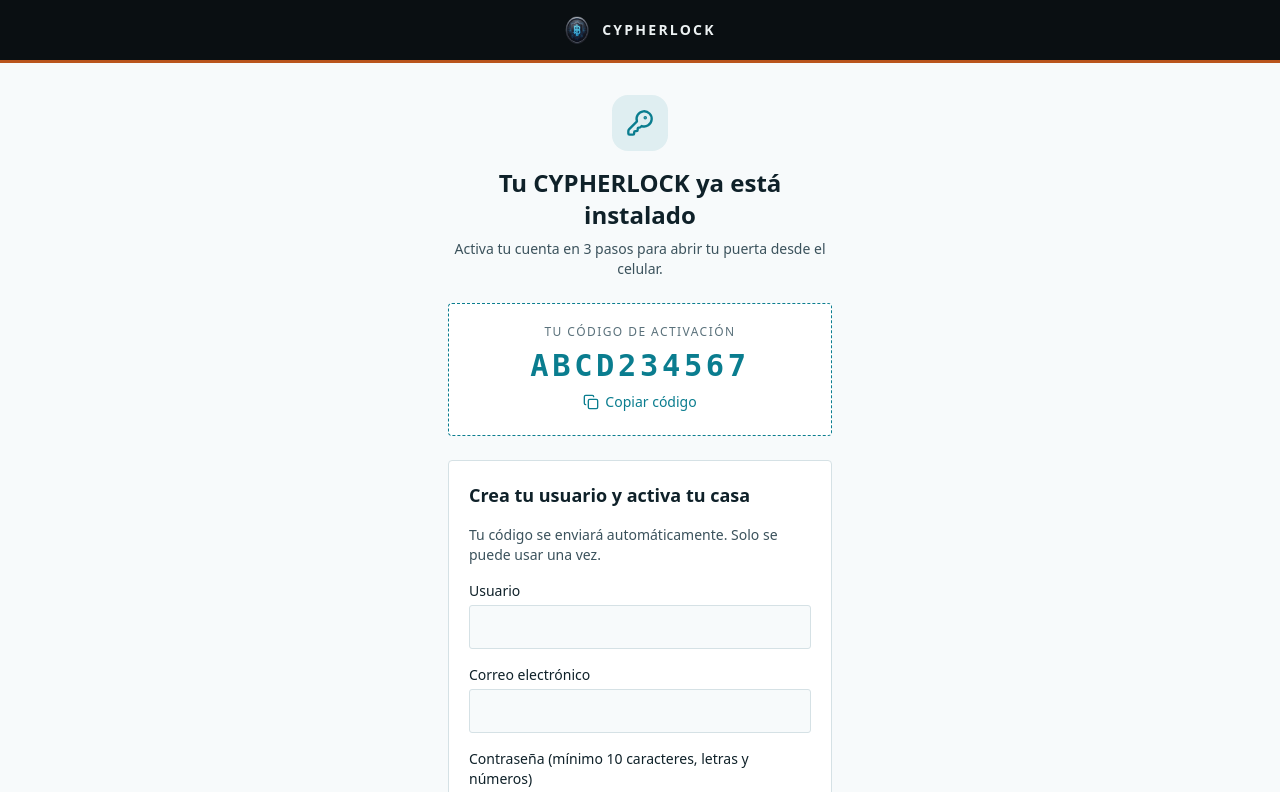
muestra el rechazo del backend y no anuncia activación si el código ya se usó
Type "prop_demo" into the field labelled "Usuario" at (640, 627), box 469,605 -> 811,649
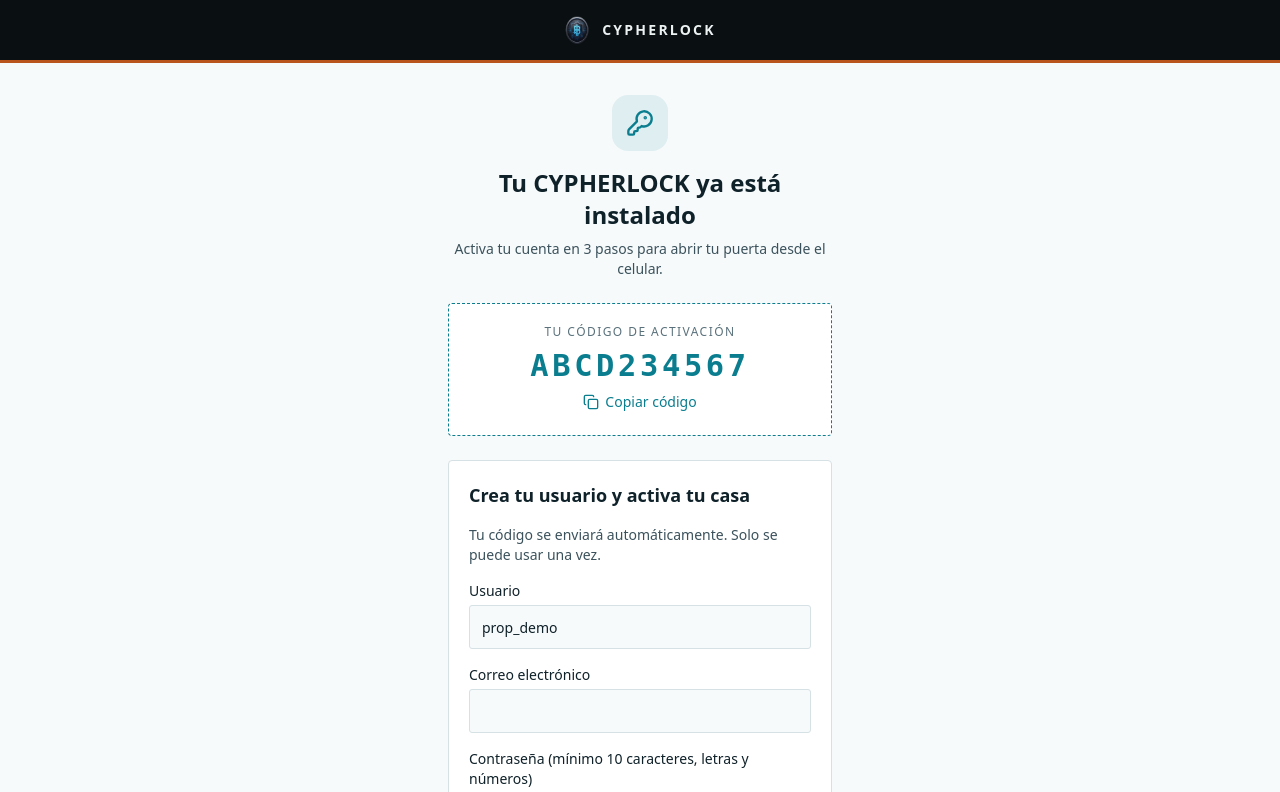
Type "demo@example.com" into the field labelled "Correo electrónico" at (640, 711), box 469,689 -> 811,733
(page scrolled)
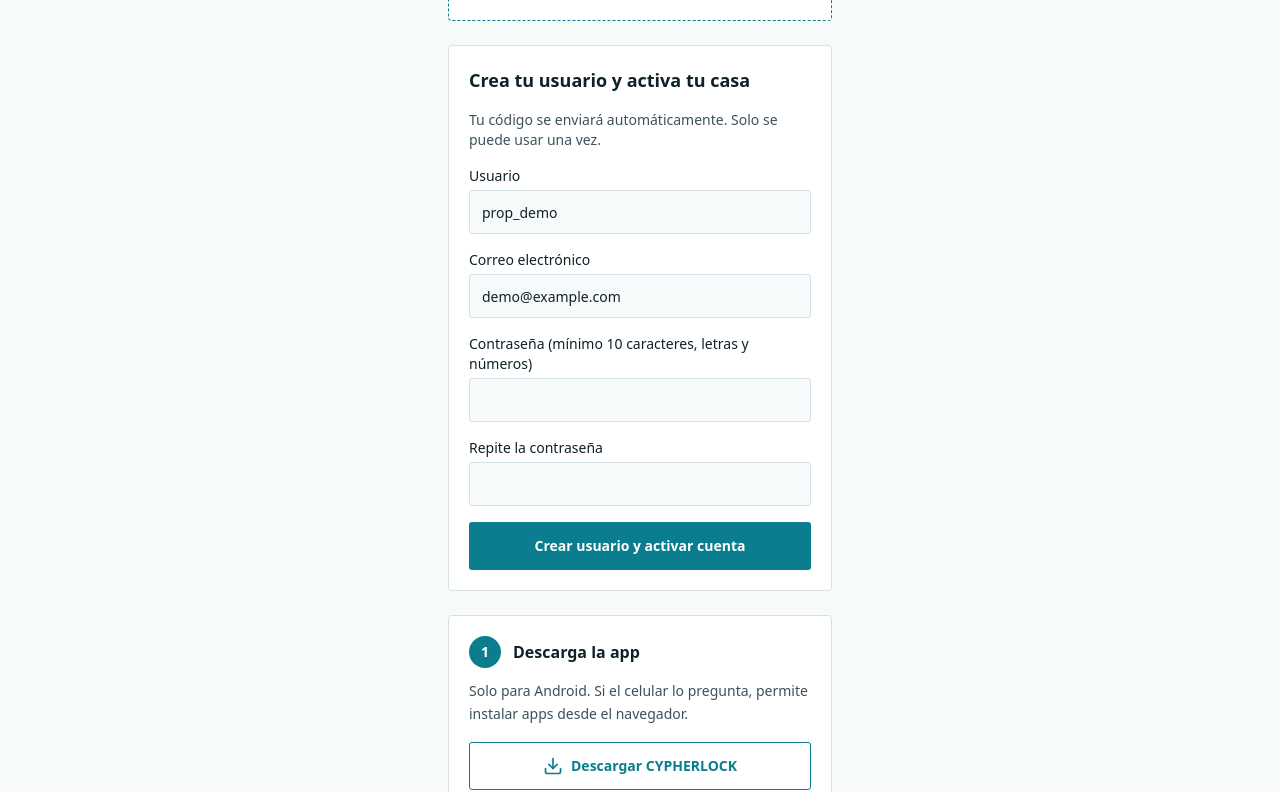
Type "Clave12345!" into the password field labelled "Contraseña (mínimo 10 caracteres, letras y números)" at (640, 400), box 469,378 -> 811,422
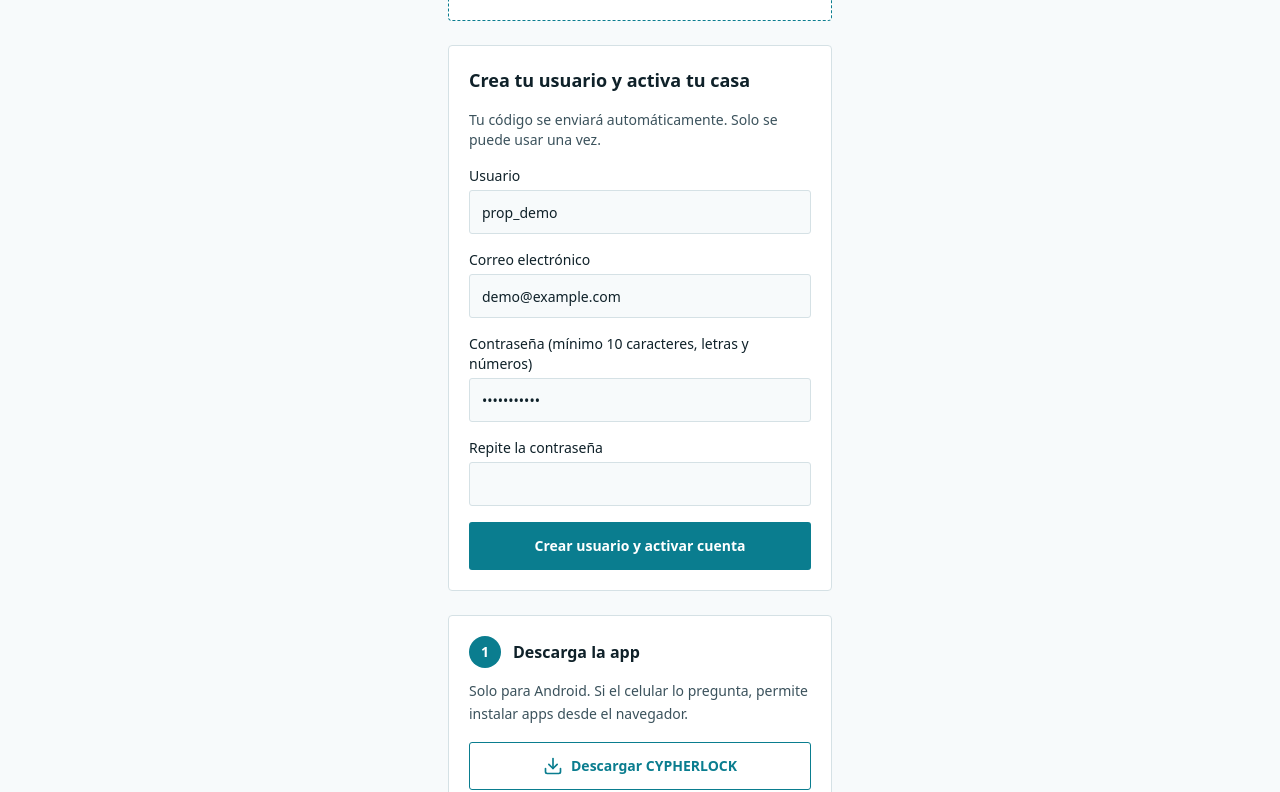
Type "Clave12345!" into the password field labelled "Repite la contraseña" at (640, 484), box 469,462 -> 811,506
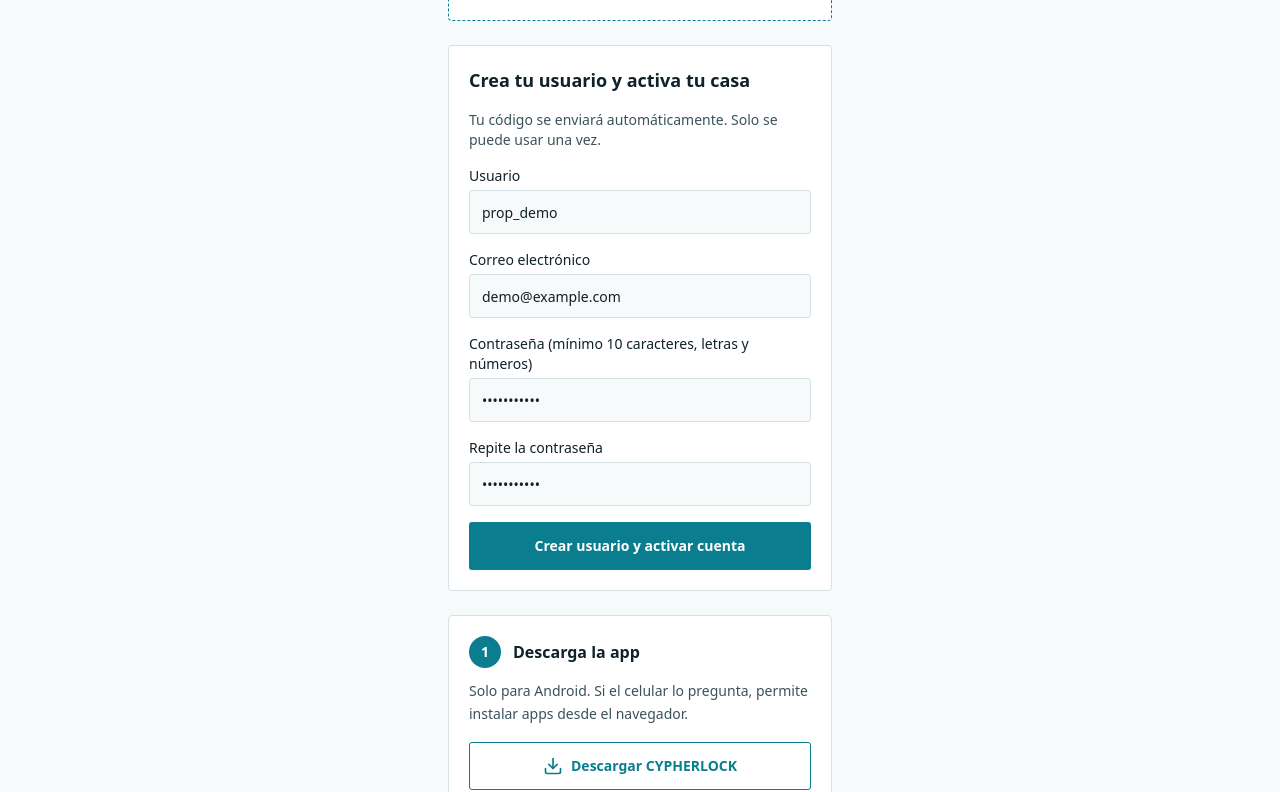
Click the button "Crear usuario y activar cuenta" at (640, 546), box 469,522 -> 811,570
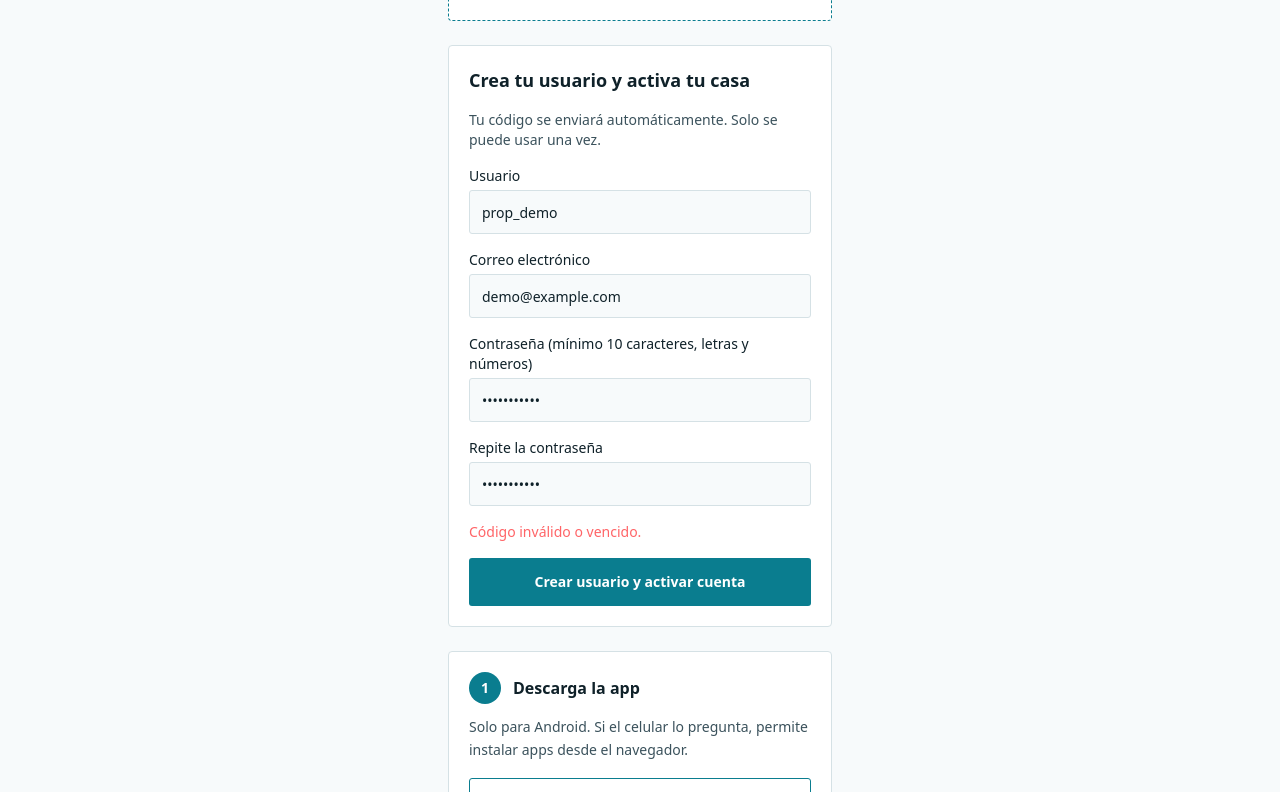
Result: the message reads "Código inválido o vencido." at 469,522 -> 641,541
